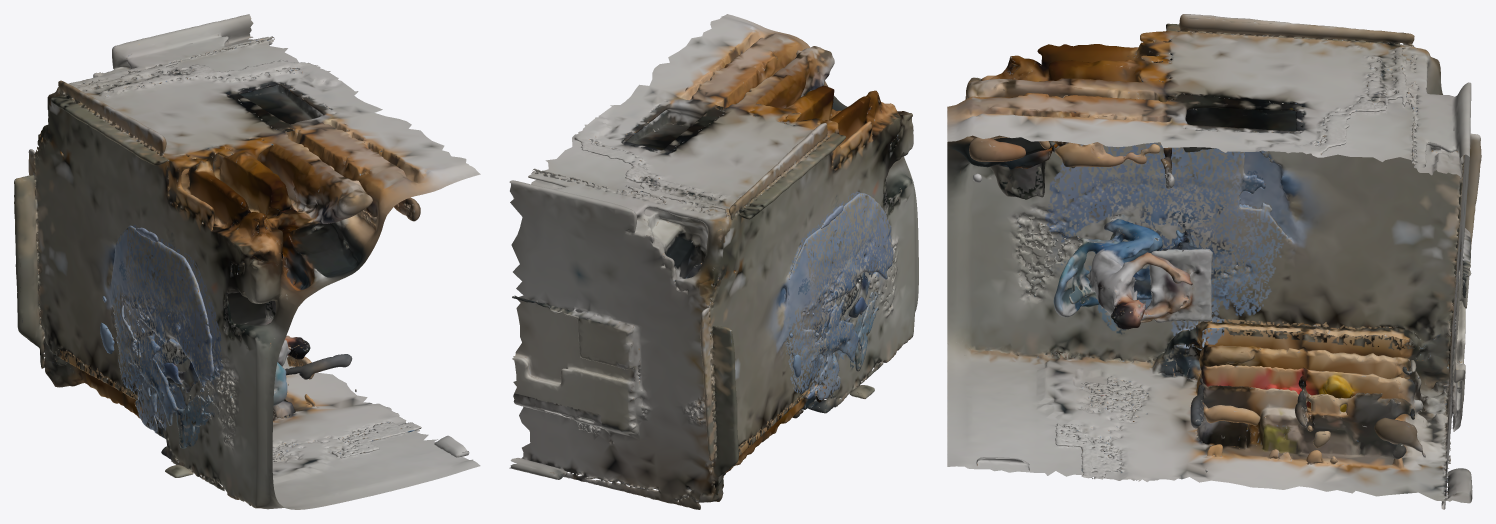
3 renders of one model, left to right at view 1: azimuth 30°, elevation 25°; view 2: azimuth 150°, elevation 25°; view 3: azimuth 270°, elevation 25°, orthographic. The views are drawn at different scales.
Visible parts, largest first — view 1: answering_questions_87; view 2: answering_questions_87; view 3: answering_questions_87.
Part boxes in pixels (x1=…): answering_questions_87: x1=14, y1=14, x2=480, y2=509; answering_questions_87: x1=509, y1=14, x2=918, y2=509; answering_questions_87: x1=947, y1=14, x2=1481, y2=509.
Bounding box in the file's own units: 2.38 × 3.23 × 4.11.
Materials: 1 (1 with a texture image).
